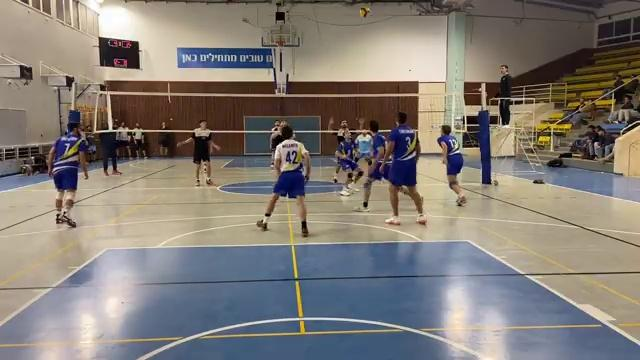ball: (357, 5, 374, 24)
